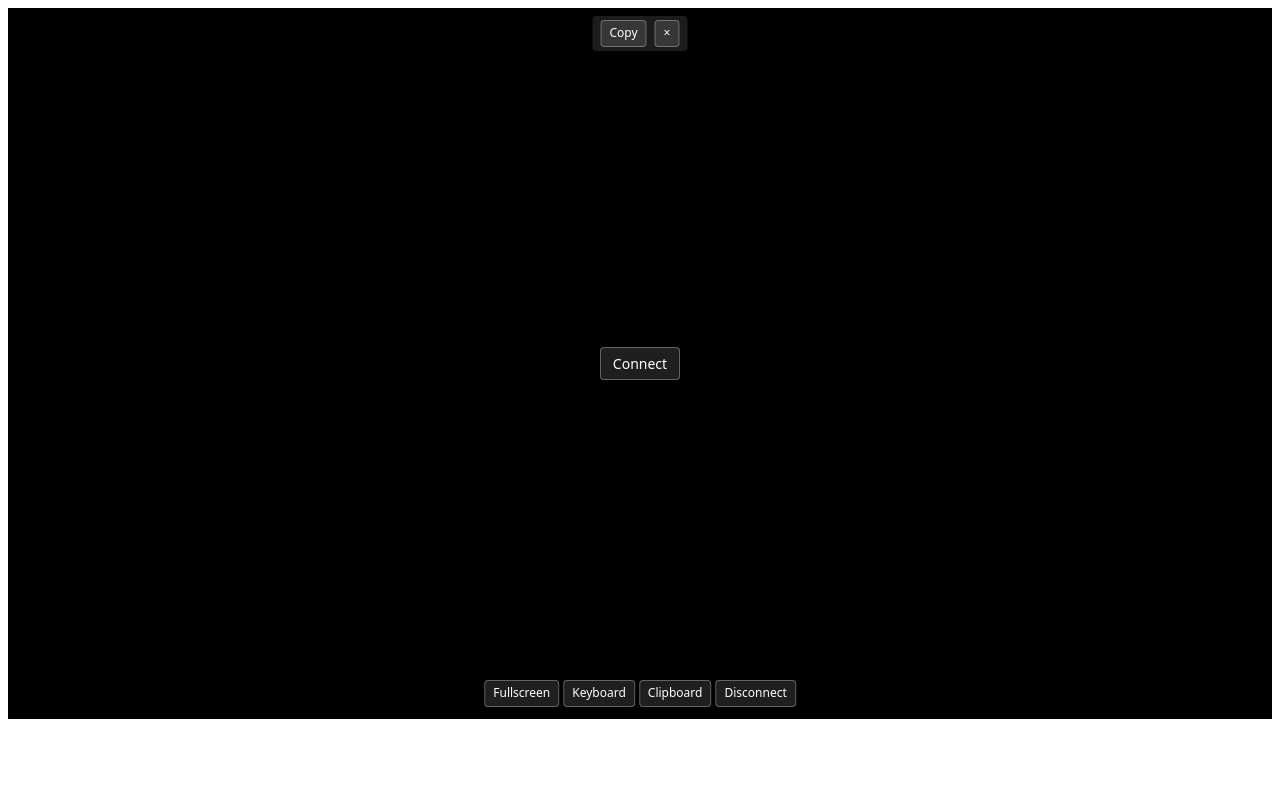
Test case: RustDeskViewer › shows a manual copy button when auto-copy is unavailable
Click the button "Copy" at (624, 33), box [600,20,647,47]
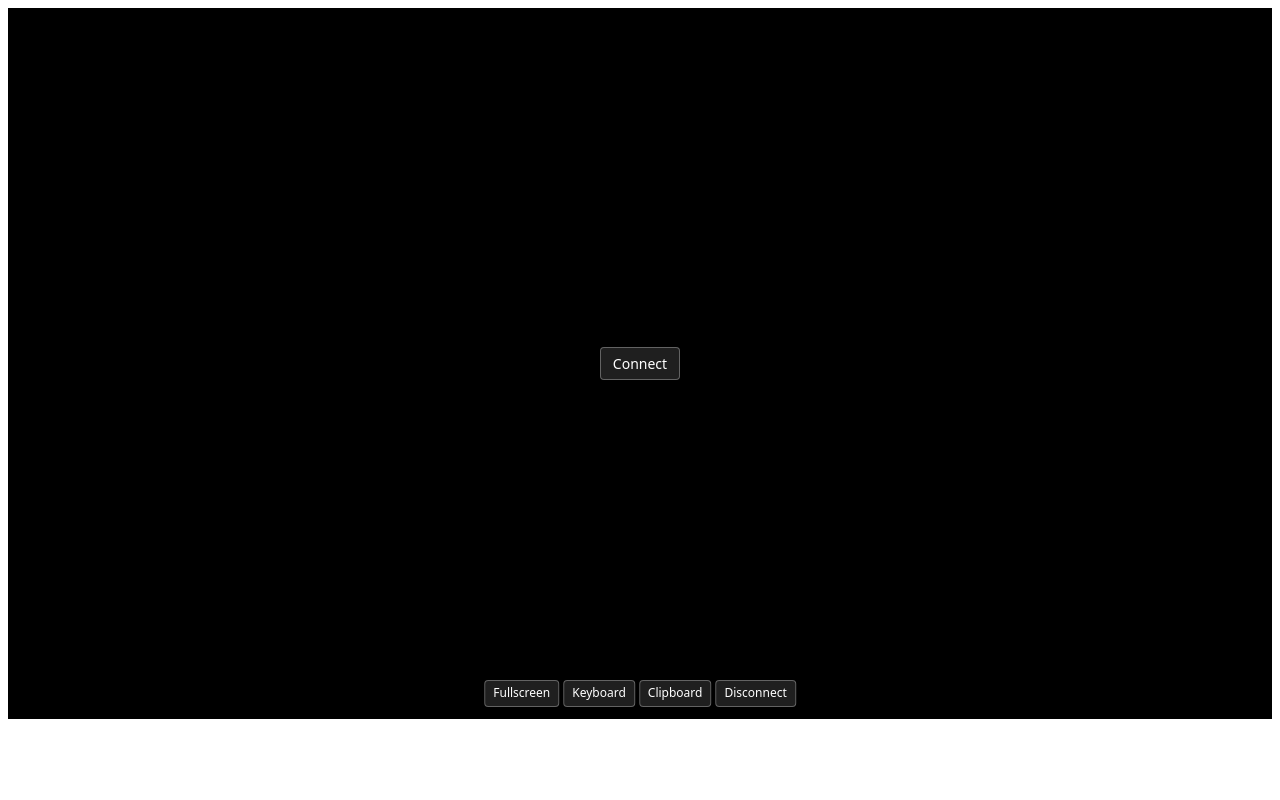
Expected: the button "Copy" is gone
